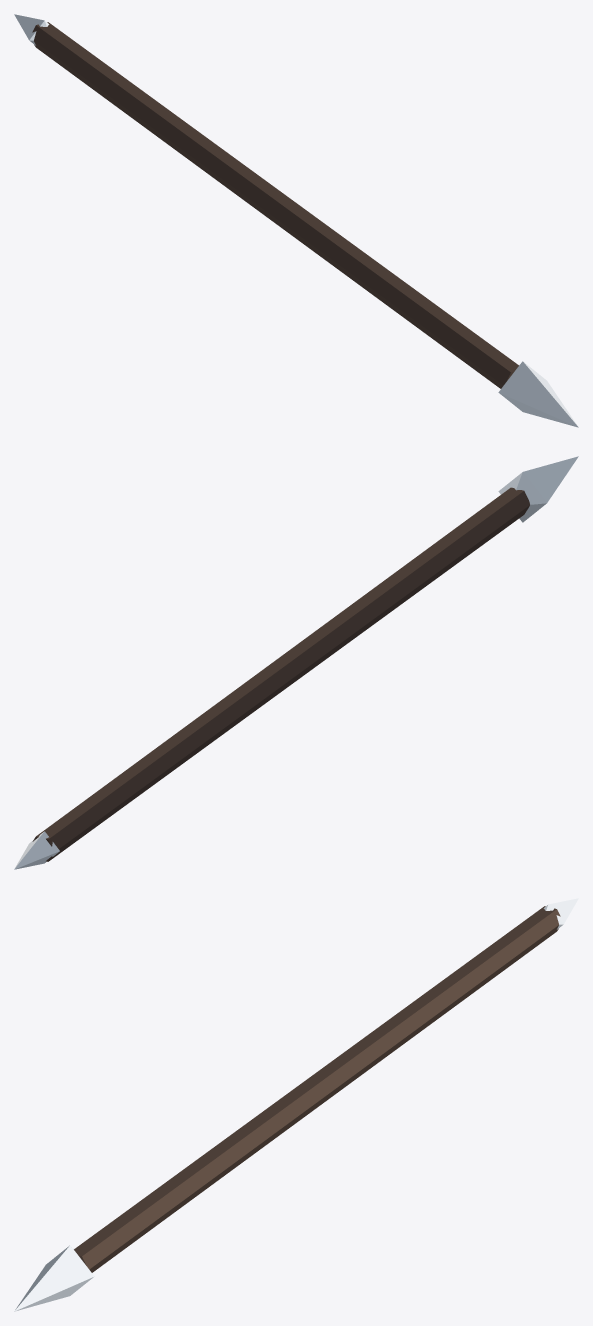
Rendered from proj_spear.glb.
The picture shows the model from 3 angles, top to bottom: view 1: azimuth 30°, elevation 25°; view 2: azimuth 150°, elevation 25°; view 3: azimuth 330°, elevation 25°; orthographic projection.
Parts seen in each view (by area): view 1: Proj_shaft, Proj_blade; view 2: Proj_shaft, Proj_blade, Proj_butt; view 3: Proj_shaft, Proj_blade.
Boxes of the visible parts, x1,y1,x2,y2 form: Proj_shaft: (32, 22, 518, 388); Proj_blade: (498, 361, 578, 427); Proj_shaft: (32, 487, 529, 861); Proj_blade: (498, 456, 578, 522); Proj_butt: (14, 831, 59, 869); Proj_shaft: (74, 906, 560, 1272); Proj_blade: (14, 1245, 94, 1311).
Size of the model in its own units: 0.132 by 0.132 by 2.65.
